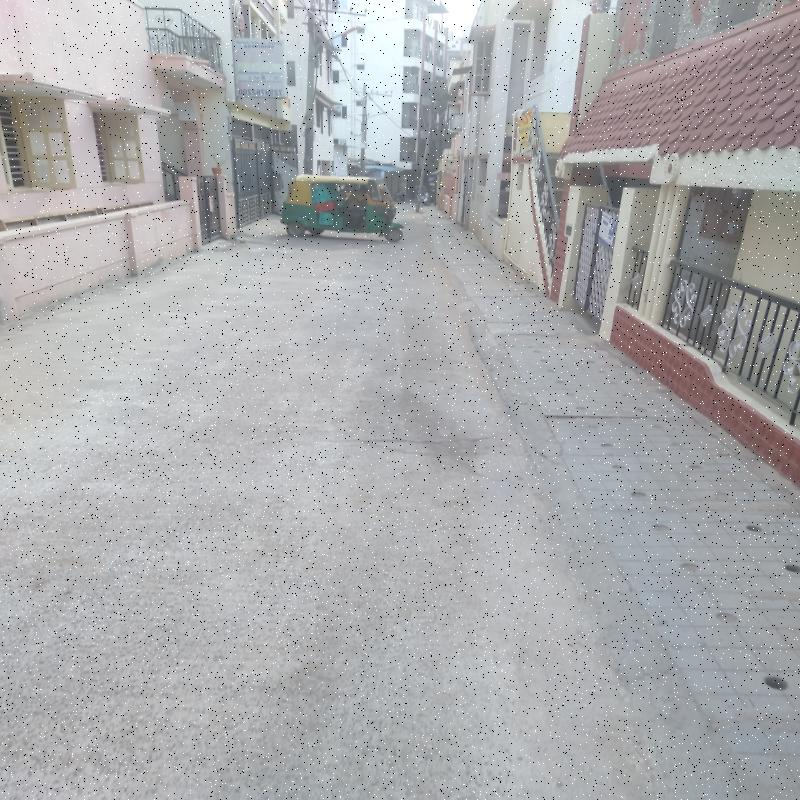auto: (294, 177, 384, 239)
